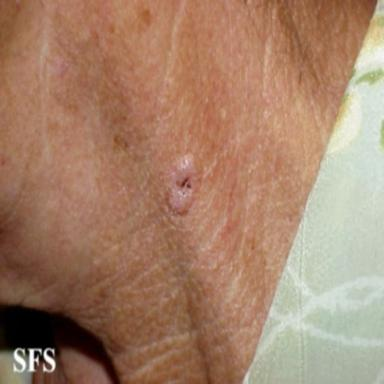basal-cell-carcinoma: (162, 153, 203, 218)
